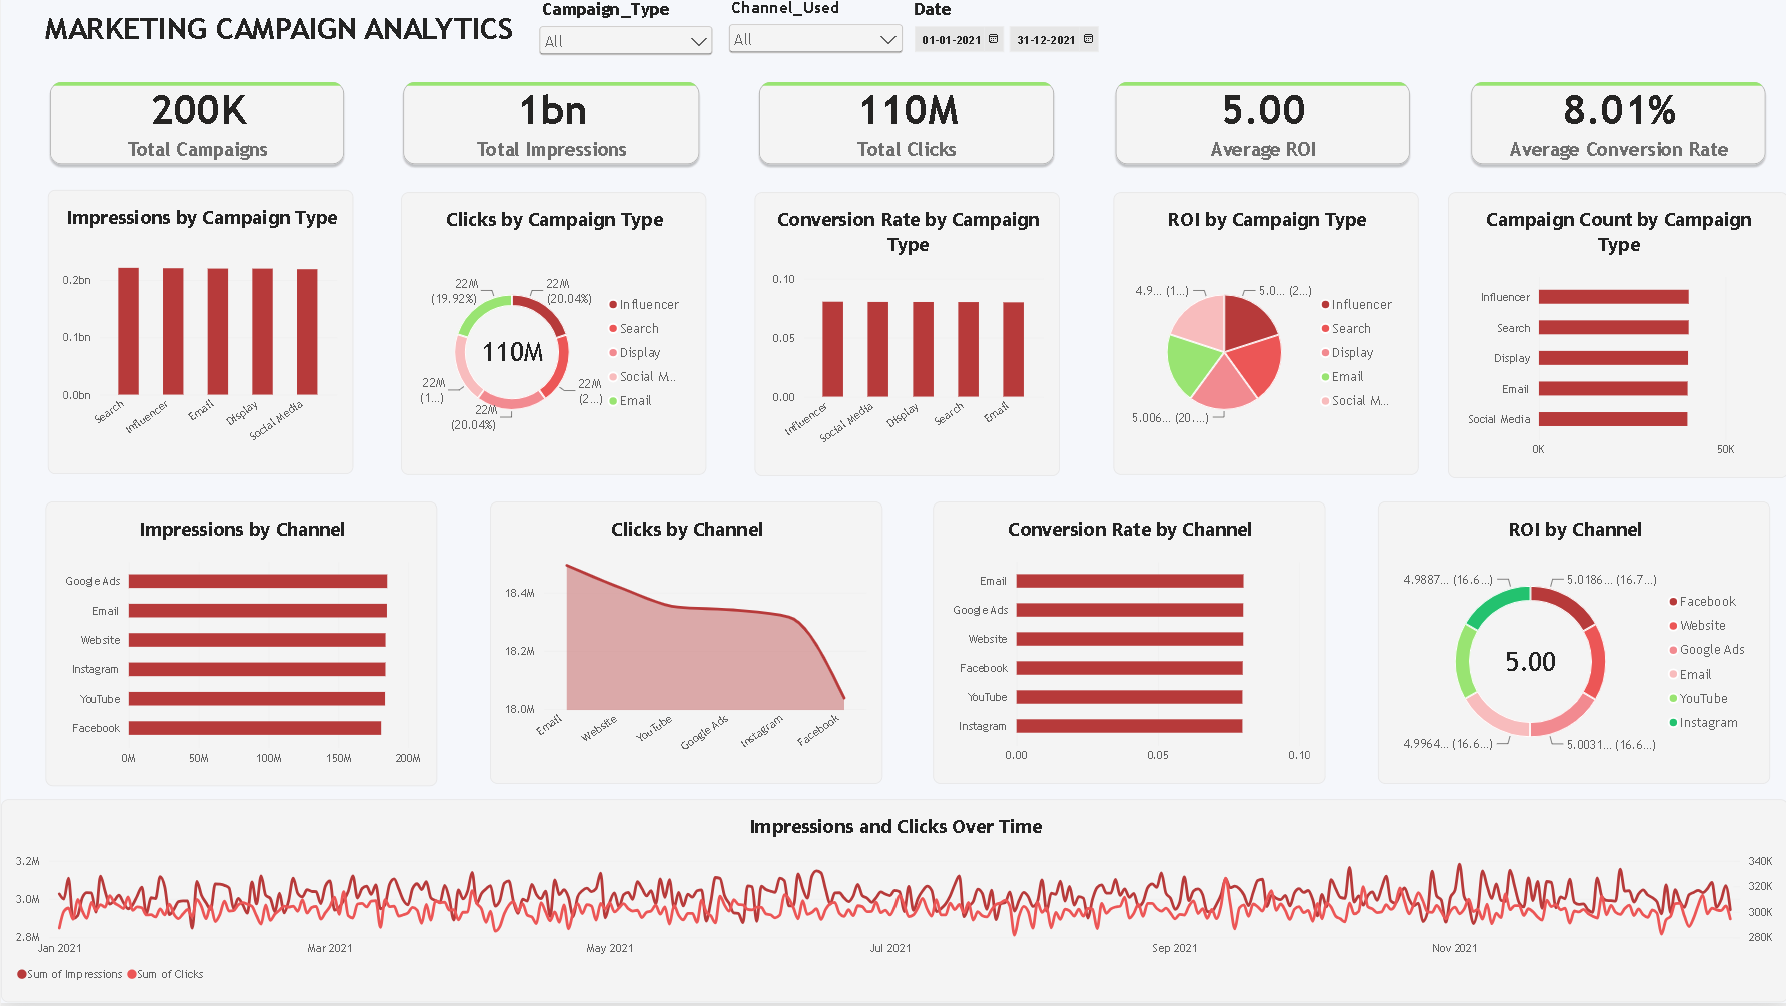

The page's visual inventory and layout, read from the dashboard file:
{"tool":"powerbi","page":{"name":"Marketing Campaign Analytics","canvas":[1920,1080],"ordinal":1},"visuals":[{"type":"cardVisual","title":"Total Campaigns","fields":{"Data":["marketing_campaigns.Total Campaigns"]},"box":[48.2,85.7,326.8,98.2],"z":0},{"type":"cardVisual","title":"Total Campaigns","fields":{"Data":["marketing_campaigns.Total Impressions"]},"box":[426.8,85.7,328.6,98.2],"z":1000},{"type":"cardVisual","title":"Total Campaigns","fields":{"Data":["marketing_campaigns.Total Clicks"]},"box":[810.7,85.7,326.8,98.2],"z":2000},{"type":"cardVisual","title":"Total Campaigns","fields":{"Data":["marketing_campaigns.Average ROI"]},"box":[1192.9,85.7,326.8,98.2],"z":3000},{"type":"cardVisual","title":"Total Campaigns","fields":{"Data":["marketing_campaigns.Average Conversion Rate"]},"box":[1575,85.7,326.8,98.2],"z":4000},{"type":"clusteredColumnChart","title":"Impressions by Campaign Type","fields":{"Category":["marketing_campaigns.Campaign_Type"],"Y":["Sum(marketing_campaigns.Impressions)"]},"box":[50,207.1,328.6,305.4],"z":5000},{"type":"donutChart","title":"Clicks by Campaign Type","fields":{"Category":["marketing_campaigns.Campaign_Type"],"Y":["Sum(marketing_campaigns.Clicks)"]},"box":[430,207.7,328,304],"z":6000},{"type":"clusteredColumnChart","title":"Conversion Rate by Campaign Type","fields":{"Category":["marketing_campaigns.Campaign_Type"],"Y":["Avg(marketing_campaigns.Conversion_Rate)"]},"box":[810,207.7,327.5,305],"z":7000},{"type":"pieChart","title":"ROI by Campaign Type","fields":{"Category":["marketing_campaigns.Campaign_Type"],"Y":["Avg(marketing_campaigns.ROI)"]},"box":[1195,207.7,328,304],"z":8000},{"type":"clusteredBarChart","title":"Campaign Count by Campaign Type","fields":{"Category":["marketing_campaigns.Campaign_Type"],"Y":["Count(marketing_campaigns.Campaign_ID)"]},"box":[1555.5,207.7,365.6,307.2],"z":9000},{"type":"clusteredBarChart","title":"Impressions by Channel","fields":{"Category":["marketing_campaigns.Channel_Used"],"Y":["Sum(marketing_campaigns.Impressions)"]},"box":[48.2,541.1,421.4,305.4],"z":10000},{"type":"stackedAreaChart","title":"Clicks by Channel","fields":{"Category":["marketing_campaigns.Channel_Used"],"Y":["Sum(marketing_campaigns.Clicks)"]},"box":[525,540.8,421.9,302.9],"z":11000},{"type":"clusteredBarChart","title":"Conversion Rate by Channel","fields":{"Category":["marketing_campaigns.Channel_Used"],"Y":["Avg(marketing_campaigns.Conversion_Rate)"]},"box":[1002.4,540.8,421.9,302.9],"z":12000},{"type":"donutChart","title":"ROI by Channel","fields":{"Category":["marketing_campaigns.Channel_Used"],"Y":["Avg(marketing_campaigns.ROI)"]},"box":[1479.8,540.8,421.9,302.9],"z":13000},{"type":"lineChart","title":"Impressions and Clicks Over Time","fields":{"Category":["marketing_campaigns.Date"],"Y":["Sum(marketing_campaigns.Impressions)"],"Y2":["Sum(marketing_campaigns.Clicks)"]},"box":[0,861,1921.1,218.5],"z":14000},{"type":"textbox","box":[48.2,12.5,646.9,54.1],"z":15000},{"type":"slicer","fields":{"Values":["marketing_campaigns.Campaign_Type"]},"box":[575,0,196.4,82.1],"z":16000},{"type":"slicer","fields":{"Values":["marketing_campaigns.Channel_Used"]},"box":[778.6,0,196.4,83.9],"z":17000},{"type":"slicer","fields":{"Values":["marketing_campaigns.Date"]},"box":[975,0,383.9,223.2],"z":18000}]}

Visuals, with their boxes in screenshot pixels (x1, y1, x2, y2), scaled from the page's 1920x1080 canvas onto the 1786x1006 screenshot:
"Total Campaigns" cardVisual: [45,80,349,171]
"Total Campaigns" cardVisual: [397,80,703,171]
"Total Campaigns" cardVisual: [754,80,1058,171]
"Total Campaigns" cardVisual: [1110,80,1414,171]
"Total Campaigns" cardVisual: [1465,80,1769,171]
"Impressions by Campaign Type" clusteredColumnChart: [47,193,352,477]
"Clicks by Campaign Type" donutChart: [400,193,705,477]
"Conversion Rate by Campaign Type" clusteredColumnChart: [753,193,1058,478]
"ROI by Campaign Type" pieChart: [1112,193,1417,477]
"Campaign Count by Campaign Type" clusteredBarChart: [1447,193,1785,480]
"Impressions by Channel" clusteredBarChart: [45,504,437,788]
"Clicks by Channel" stackedAreaChart: [488,504,881,786]
"Conversion Rate by Channel" clusteredBarChart: [932,504,1325,786]
"ROI by Channel" donutChart: [1377,504,1769,786]
"Impressions and Clicks Over Time" lineChart: [0,802,1785,1005]
textbox: [45,12,647,62]
slicer - marketing_campaigns.Campaign_Type: [535,0,718,76]
slicer - marketing_campaigns.Channel_Used: [724,0,907,78]
slicer - marketing_campaigns.Date: [907,0,1264,208]
